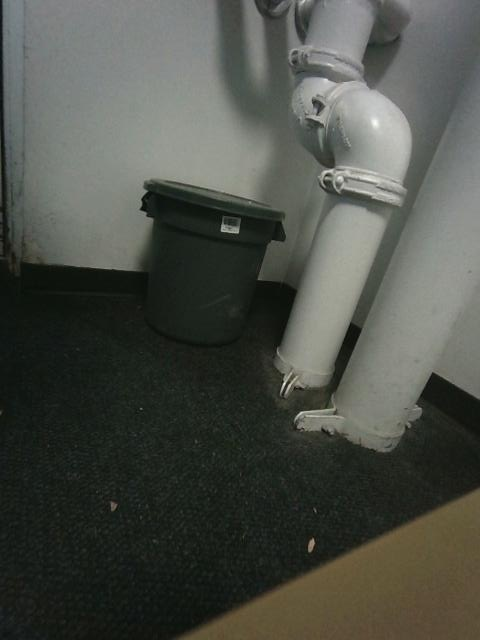ball: (141, 179, 284, 344)
